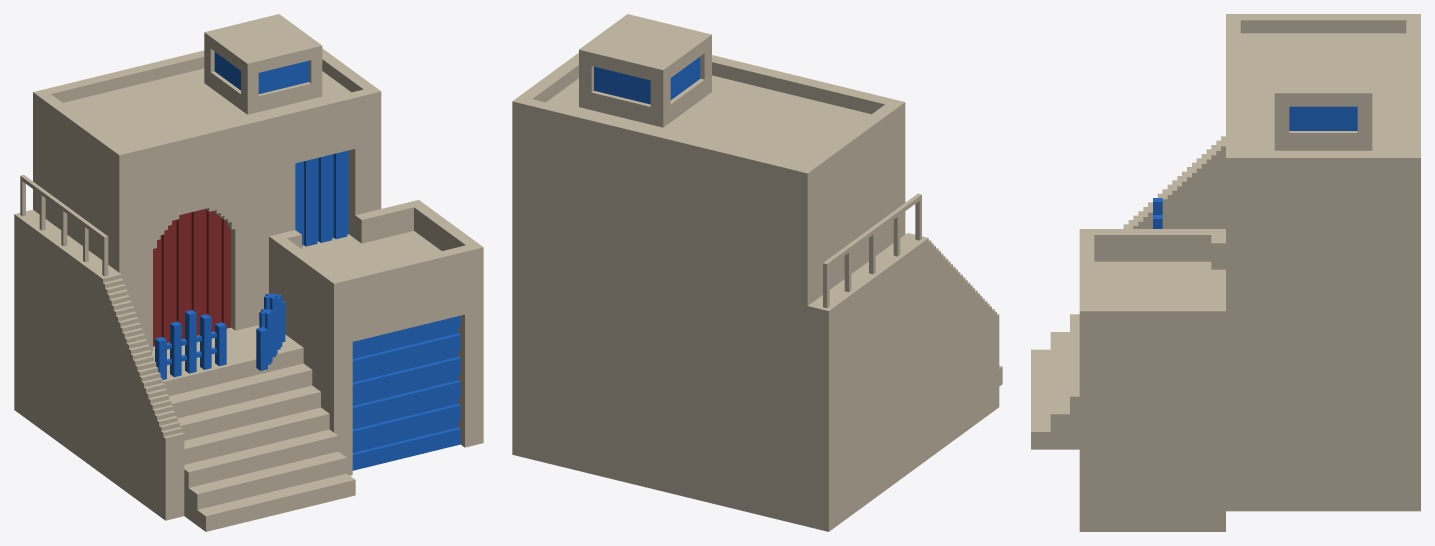
The model's file is Background_C_house_08.FBX.
The picture shows the model from 3 angles, left to right: view 1: azimuth 30°, elevation 25°; view 2: azimuth 150°, elevation 25°; view 3: azimuth 270°, elevation 25°; orthographic projection. The views are drawn at different scales.
Visible parts, largest first — view 1: Background_C-3; view 2: Background_C-3; view 3: Background_C-3.
Boxes of the visible parts, left/top/right/bottom form: Background_C-3: left=14, top=14, right=483, bottom=531; Background_C-3: left=512, top=14, right=1002, bottom=531; Background_C-3: left=1031, top=14, right=1420, bottom=531.
Size of the model in its own units: 8.5 by 9 by 8.
1 material, 1 textured.
